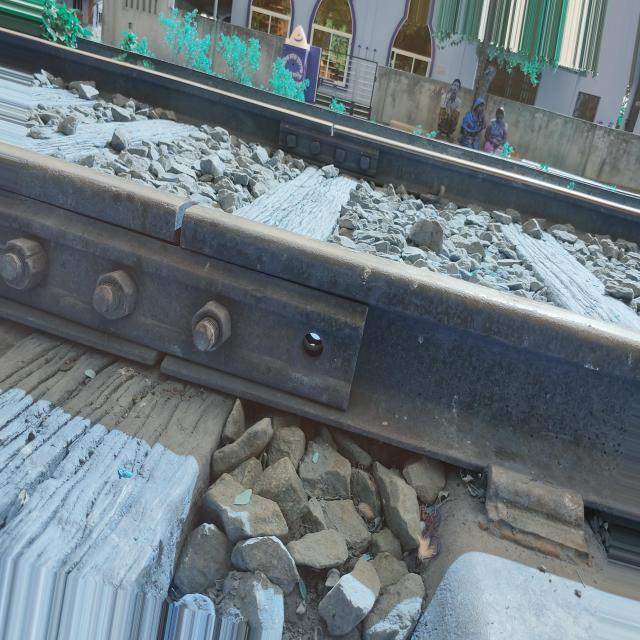Defective Joint: (0, 190, 372, 418)
Good Joint: (276, 126, 386, 180)
